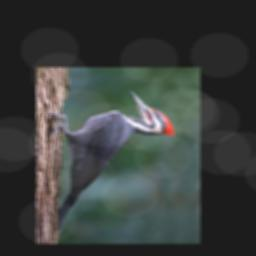Woodpecker: (45, 91, 174, 242)
